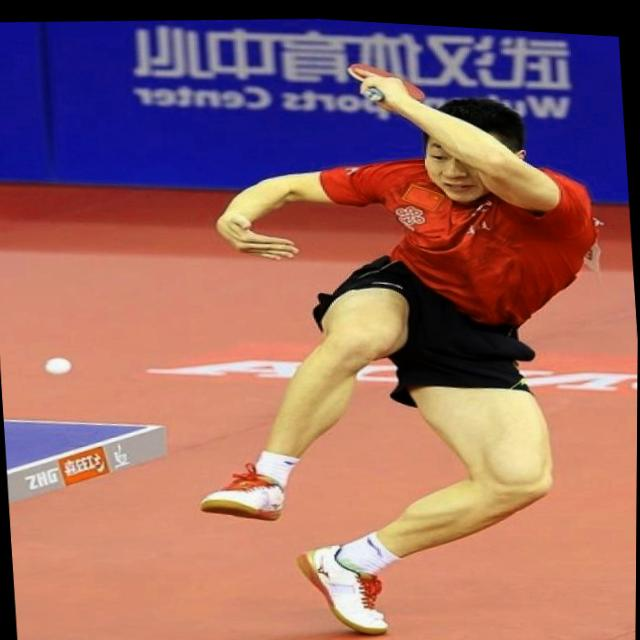TT Racket: (334, 52, 441, 105)
TT Table: (4, 411, 158, 474)
